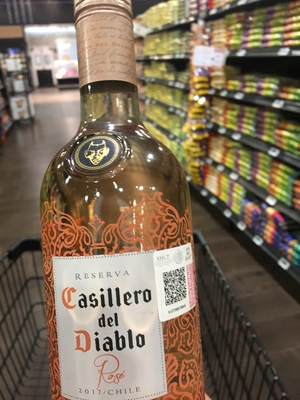casillero del diablo rose: (31, 5, 221, 398)
